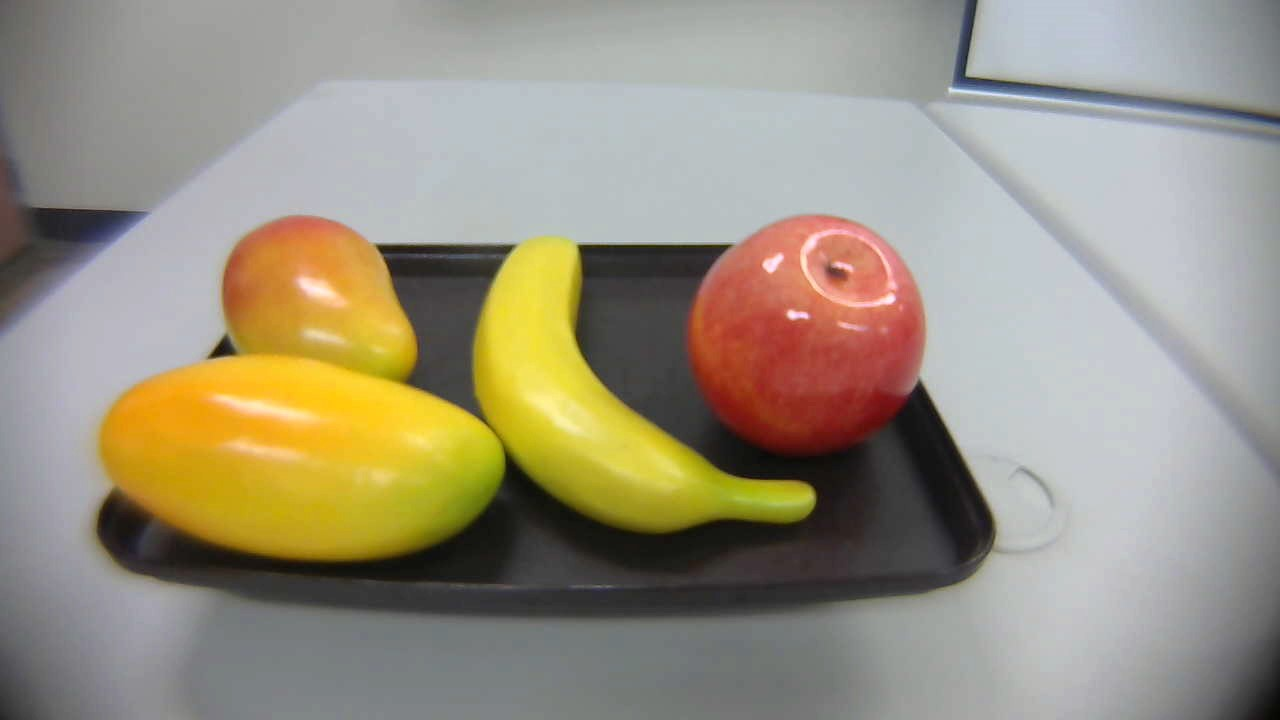banana: (465, 231, 833, 534)
red apple: (687, 213, 930, 463)
red mango: (217, 206, 425, 386)
yellow mango: (98, 341, 512, 581)
